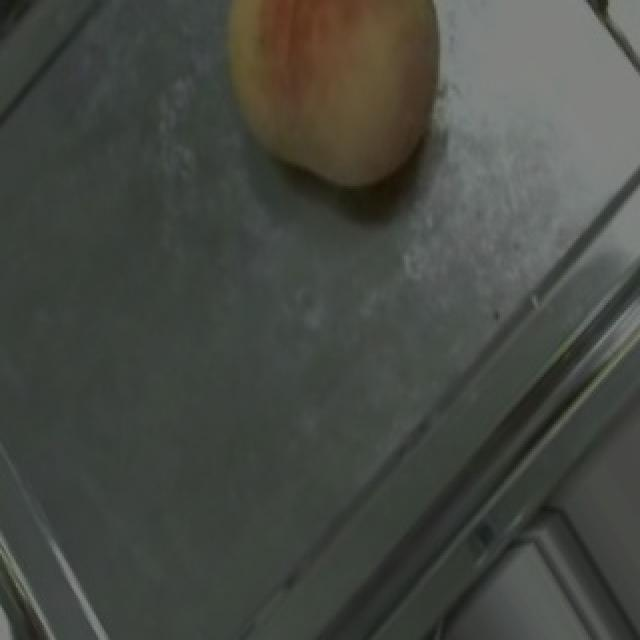Fruit: (178, 0, 492, 226)
